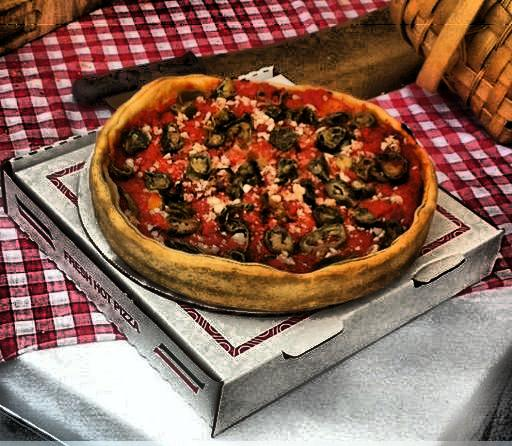pizza: (106, 77, 454, 299)
